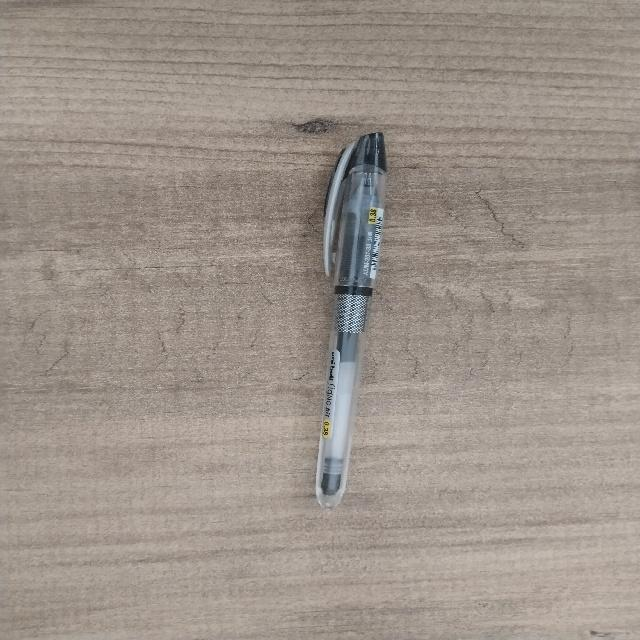pen: (316, 133, 385, 507)
